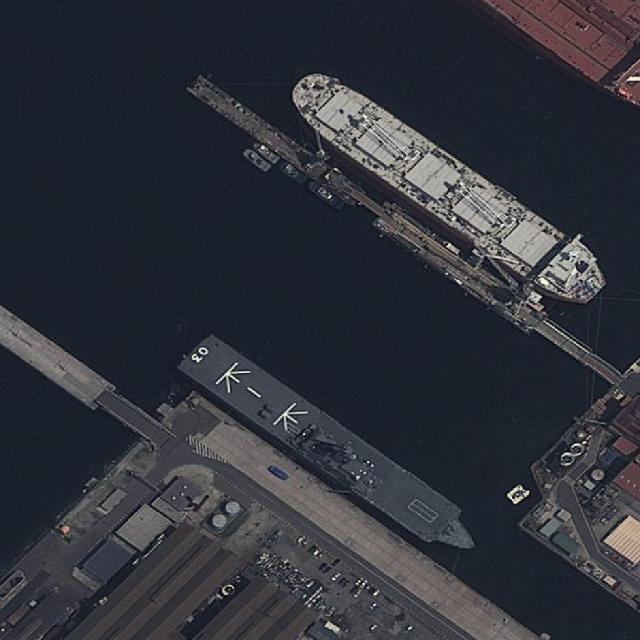Cargo: (270, 50, 622, 326)
Landing: (178, 325, 488, 564)
